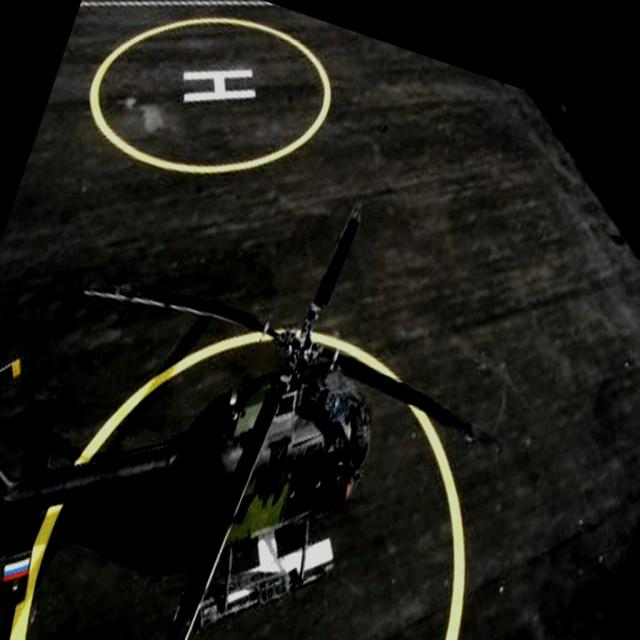helipad: (83, 11, 338, 180)
